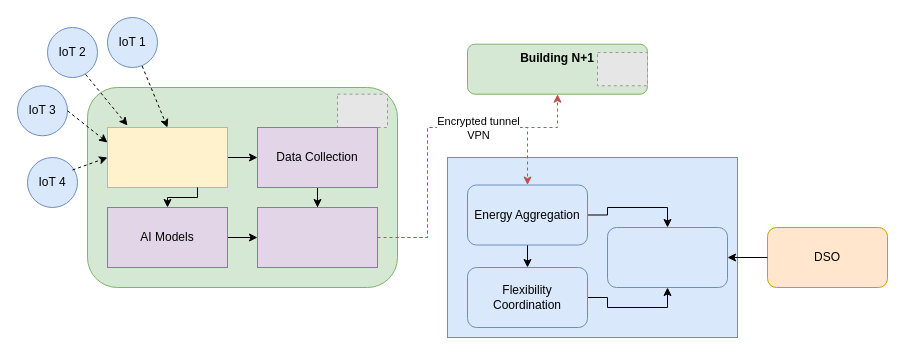
This 905x355 diagram has some shape labels left out. Grey dashed boxes stand in for pictures. The box of each missing label's shape, as (x1, y1, x2, y2) in pixels:
Building N: (86, 86, 398, 288)
Central Node: (446, 156, 738, 338)
Community Dashboard: (606, 226, 728, 288)
Digital Twin: (256, 206, 378, 268)
MQTT Broker: (106, 126, 228, 188)
